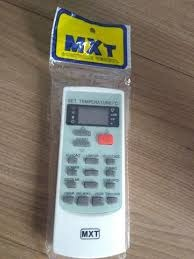remote control: (56, 84, 131, 259)
